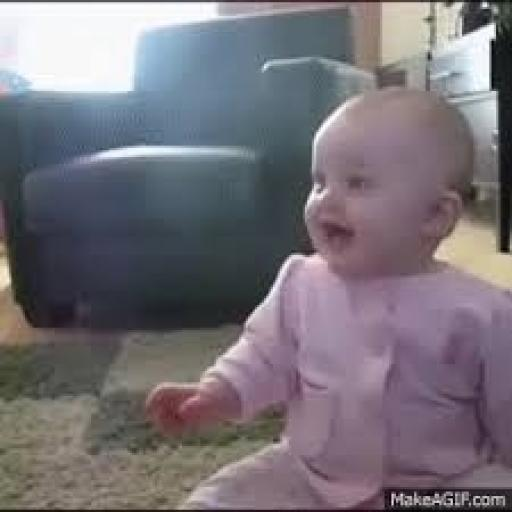laughing: (139, 75, 510, 505)
